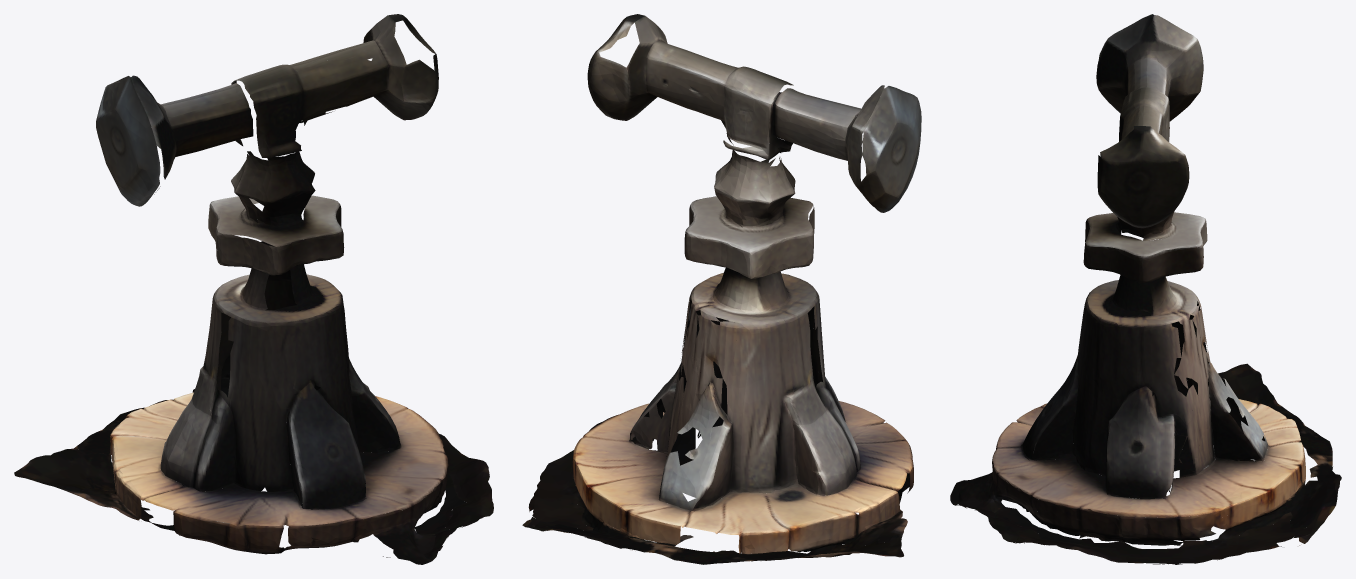
The model's file is prop_anvil.glb.
3 renders of one model, left to right at view 1: azimuth 30°, elevation 25°; view 2: azimuth 150°, elevation 25°; view 3: azimuth 270°, elevation 25°, orthographic. The views are drawn at different scales.
Parts seen in each view (by area): view 1: world; view 2: world; view 3: world.
Boxes of the visible parts, x1,y1,x2,y2 form: world: [14, 14, 493, 564]; world: [522, 14, 921, 564]; world: [950, 14, 1341, 564].
Size of the model in its own units: 0.9082 by 0.9987 by 0.8671.
1 material, 1 textured.
